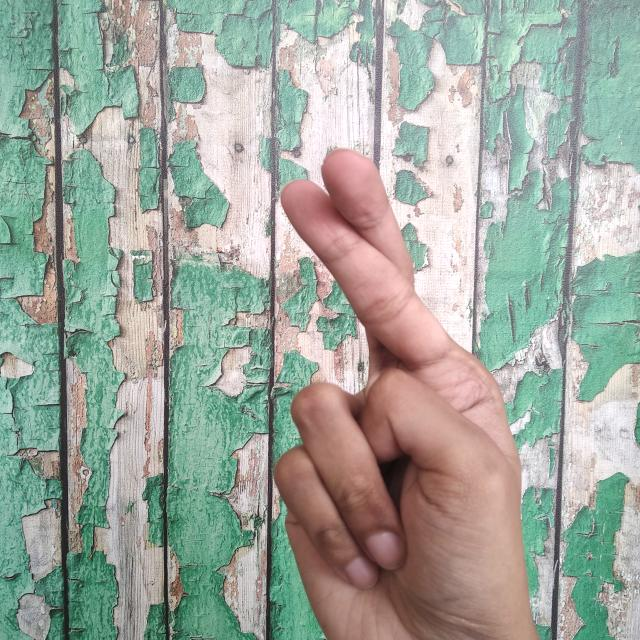R: (264, 139, 549, 640)
